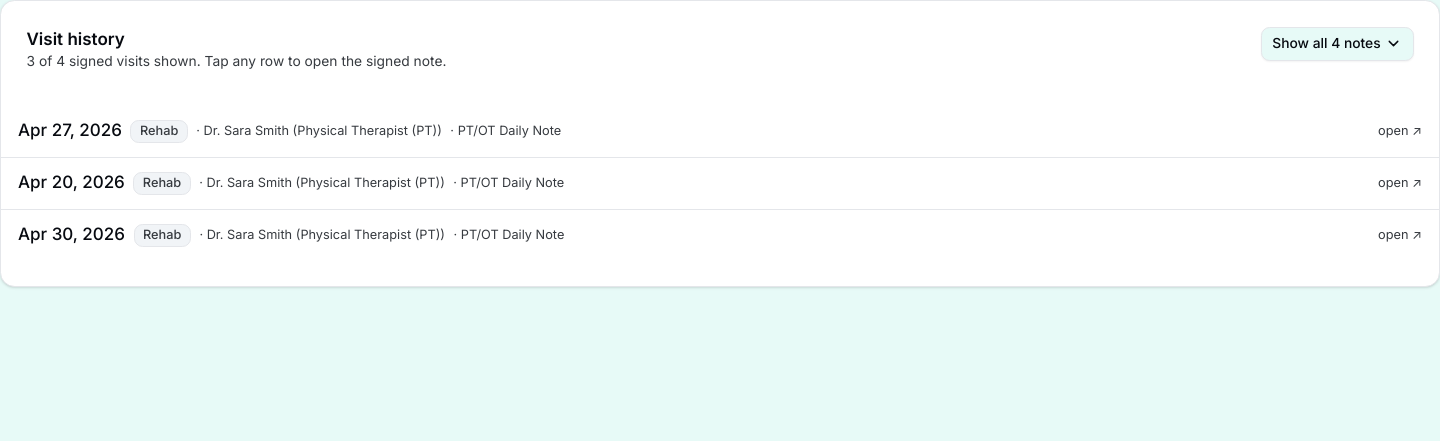
VisitHistoryList — By case view › reports "N of M" when a division filter hides visits
What coordinates should you click on to do the following:
click the button "Show all 4 notes"
I would click on:
 (1337, 44)
Its box is [1261,26,1414,60].
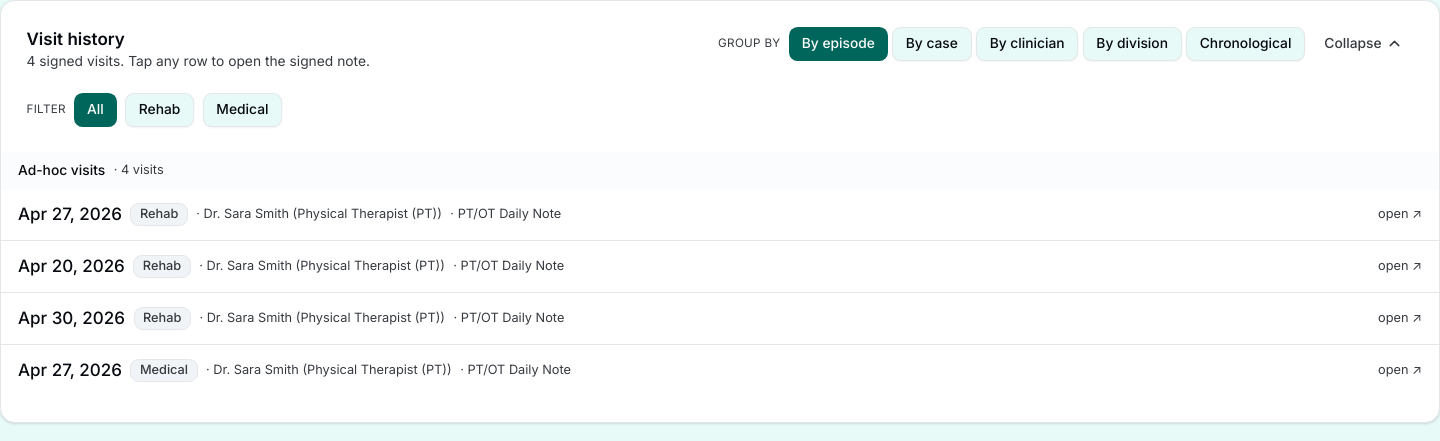
What coordinates should you click on to do the following:
click the button "Medical"
I would click on:
 (242, 110)
Its box is [203,93,282,127].
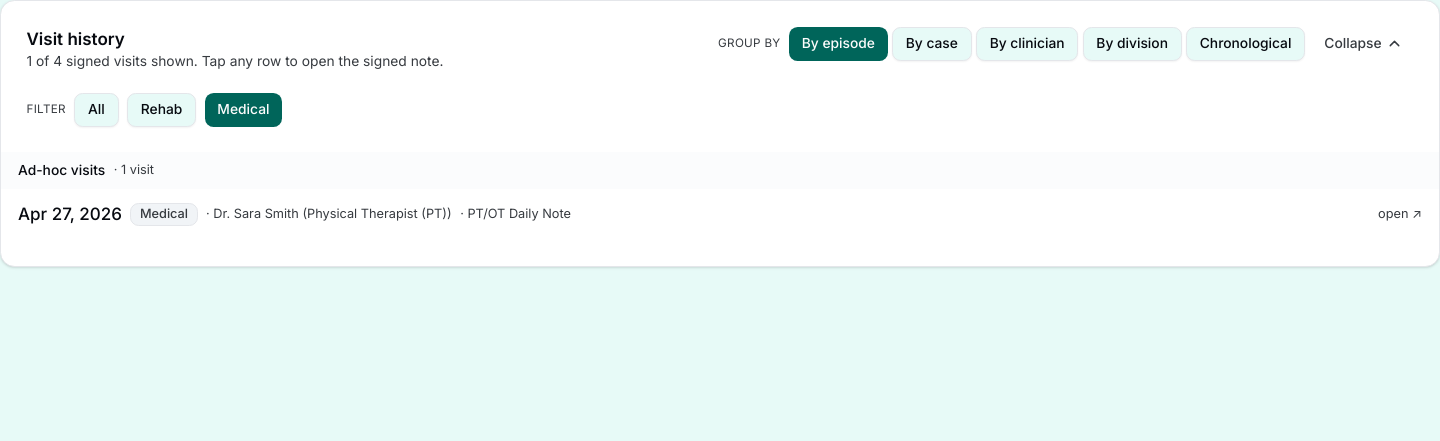
Expected: the text "1 of 4 signed visits shown." is shown, [26,53,198,69]
